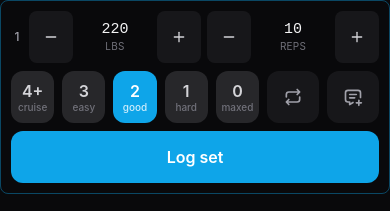
Test: Unit Preference Integration › SetLoggerRow Component › stepper moves by the exercise increment converted to display units
Click the button named "Increase weight": (179,37) [157,11,201,63]
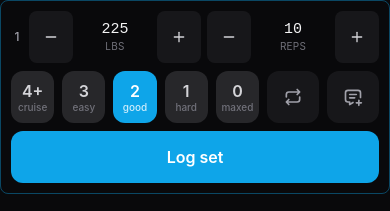
Check: the button with aria-label "Weight: 225 lbs" is shown, box [75,11,155,63]
